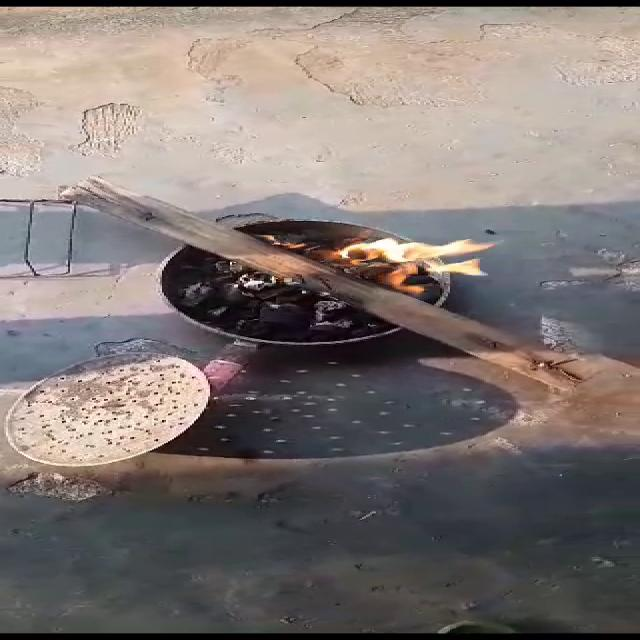Fire: (264, 213, 522, 299)
